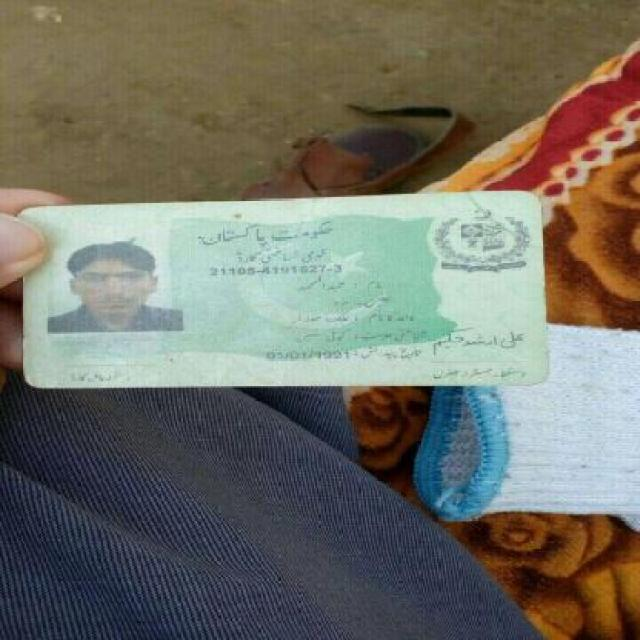Front: (12, 188, 562, 392)
